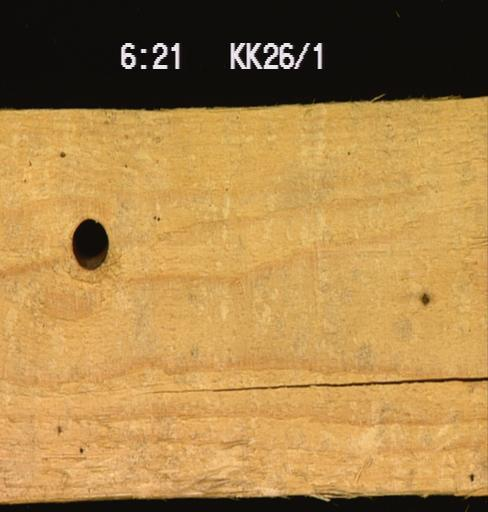small_knot: (418, 290, 429, 306)
split: (132, 374, 487, 395)
